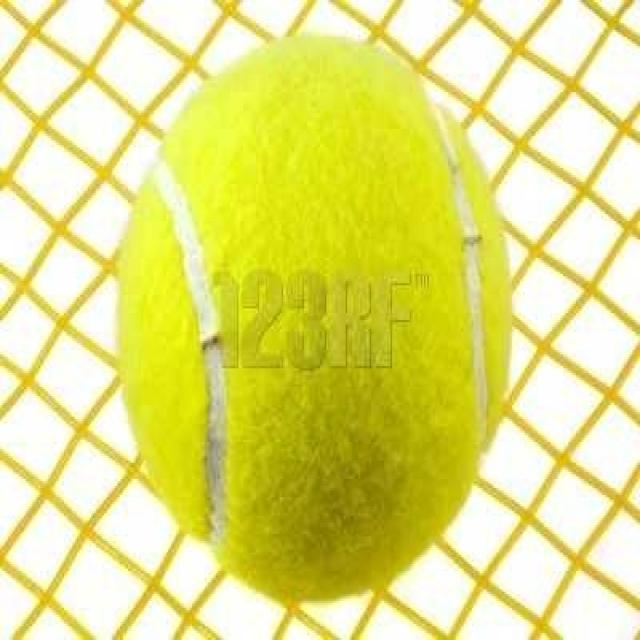Tennis_Ball: (126, 37, 505, 598)
